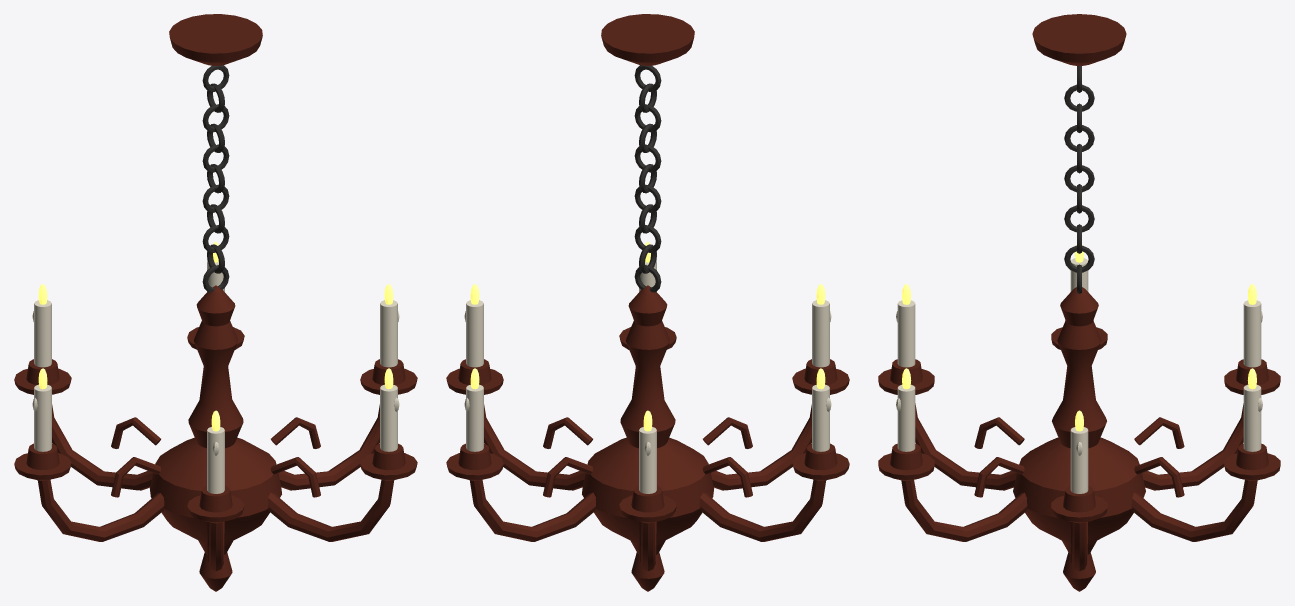
Rendered from Chandelier.glb.
3 renders of one model, left to right at view 1: azimuth 30°, elevation 25°; view 2: azimuth 150°, elevation 25°; view 3: azimuth 270°, elevation 25°, orthographic.
Visible parts, largest first — view 1: Chandelier_Arms, Chandelier_Body, Chandelier_Candles, Chandelier_Chain, Chandelier_Flames; view 2: Chandelier_Arms, Chandelier_Body, Chandelier_Candles, Chandelier_Chain, Chandelier_Flames; view 3: Chandelier_Arms, Chandelier_Body, Chandelier_Candles, Chandelier_Chain, Chandelier_Flames.
Boxes of the visible parts, x1,y1,x2,y2 form: Chandelier_Arms: (14,327,417,571); Chandelier_Body: (149,14,281,591); Chandelier_Candles: (32,261,399,493); Chandelier_Chain: (202,65,229,292); Chandelier_Flames: (38,242,393,431); Chandelier_Arms: (446,327,849,571); Chandelier_Body: (582,14,714,591); Chandelier_Candles: (464,261,831,493); Chandelier_Chain: (634,65,661,292); Chandelier_Flames: (470,242,825,431); Chandelier_Arms: (878,320,1280,571); Chandelier_Body: (1013,14,1145,591); Chandelier_Candles: (896,258,1262,493); Chandelier_Chain: (1064,66,1094,293); Chandelier_Flames: (902,244,1256,431).
Size of the model in its own units: 0.824 by 1.11 by 0.7249.
